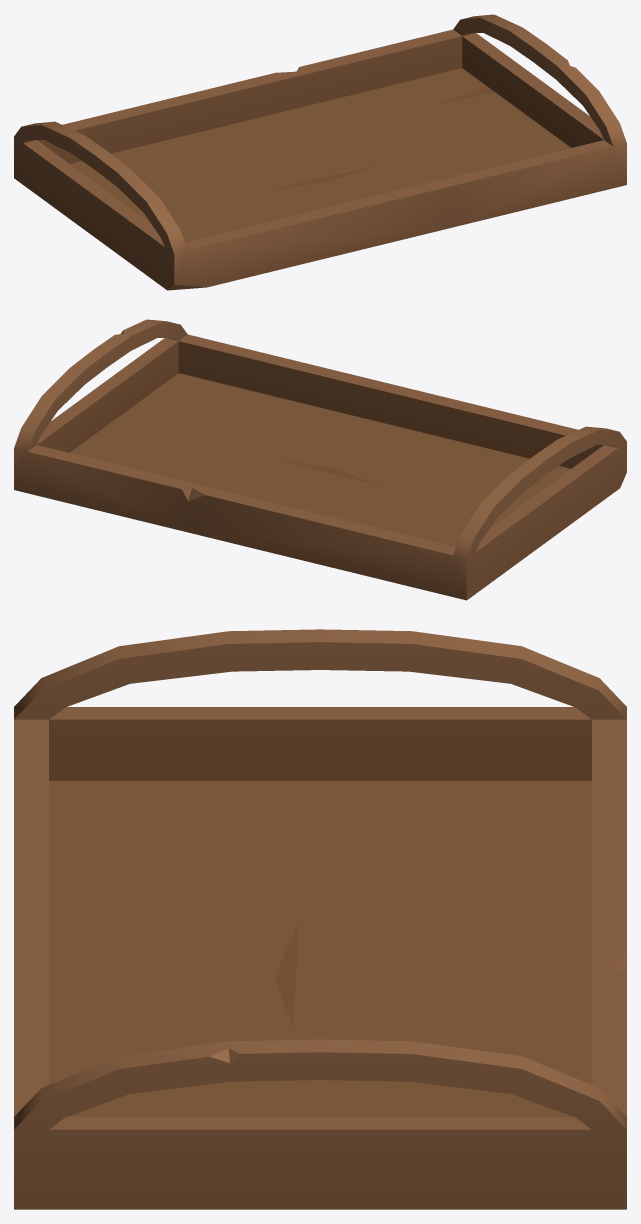
Rendered from Tray.fbx.
3 renders of one model, top to bottom at view 1: azimuth 30°, elevation 25°; view 2: azimuth 150°, elevation 25°; view 3: azimuth 270°, elevation 25°, orthographic. The views are drawn at different scales.
Parts seen in each view (by area): view 1: Tray; view 2: Tray; view 3: Tray.
Part boxes in pixels (x1,y1,x2,y2): Tray: (14,14,626,290); Tray: (14,319,626,600); Tray: (14,629,626,1209).
Size of the model in its own units: 53.21 by 9.23 by 32.6.
